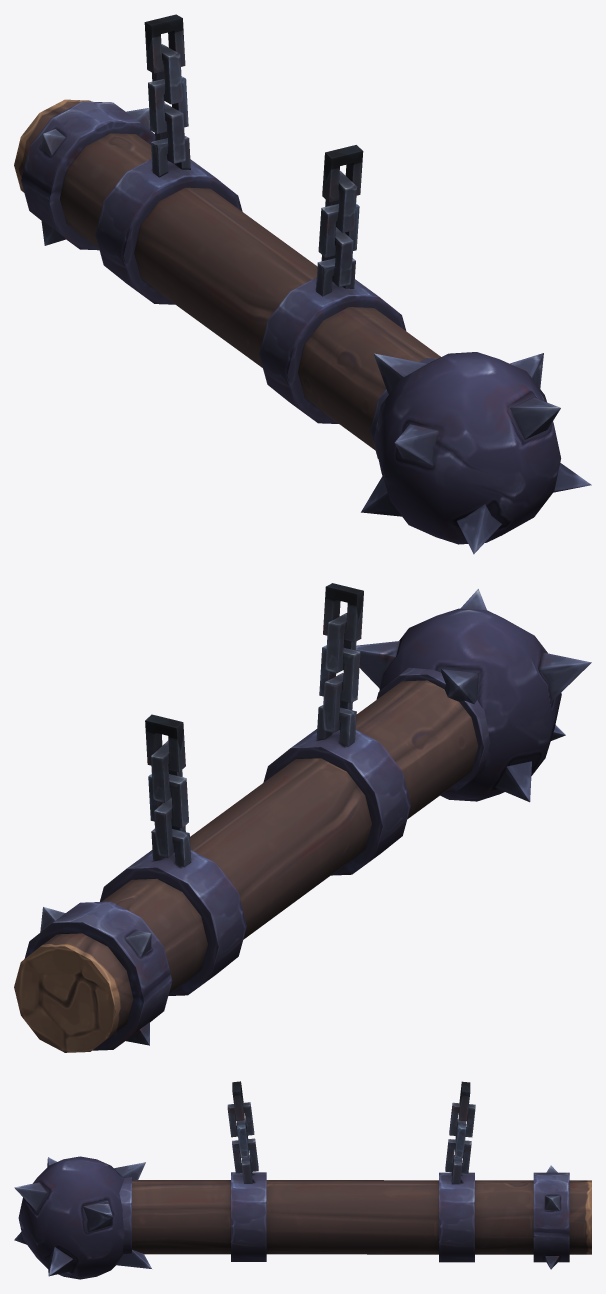
Rendered from battering ram_part_01.fbx.
The picture shows the model from 3 angles, top to bottom: view 1: azimuth 30°, elevation 25°; view 2: azimuth 150°, elevation 25°; view 3: azimuth 270°, elevation 25°; orthographic projection. The views are drawn at different scales.
Parts seen in each view (by area): view 1: battering_ram_part_01; view 2: battering_ram_part_01; view 3: battering_ram_part_01.
Part boxes in pixels (x1=…): battering_ram_part_01: x1=14, y1=14, x2=591, y2=554; battering_ram_part_01: x1=14, y1=583, x2=591, y2=1052; battering_ram_part_01: x1=14, y1=1081, x2=591, y2=1279.
Bounding box in the file's own units: 0.9477 × 1.33 × 3.72.
